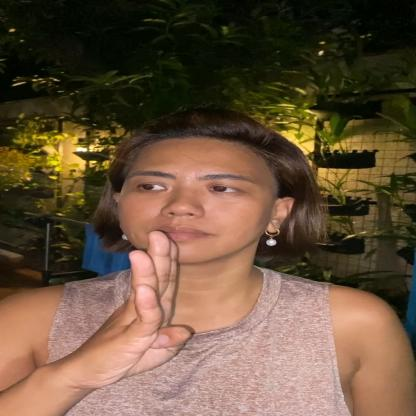Talk: (57, 91, 361, 378)
